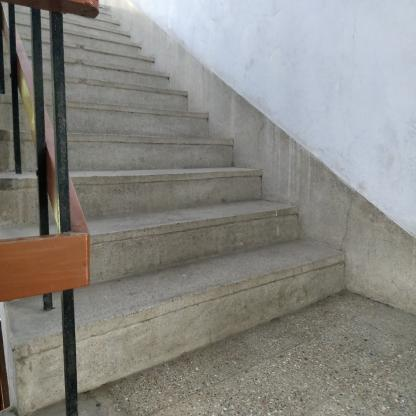stairs: (98, 102, 186, 397)
